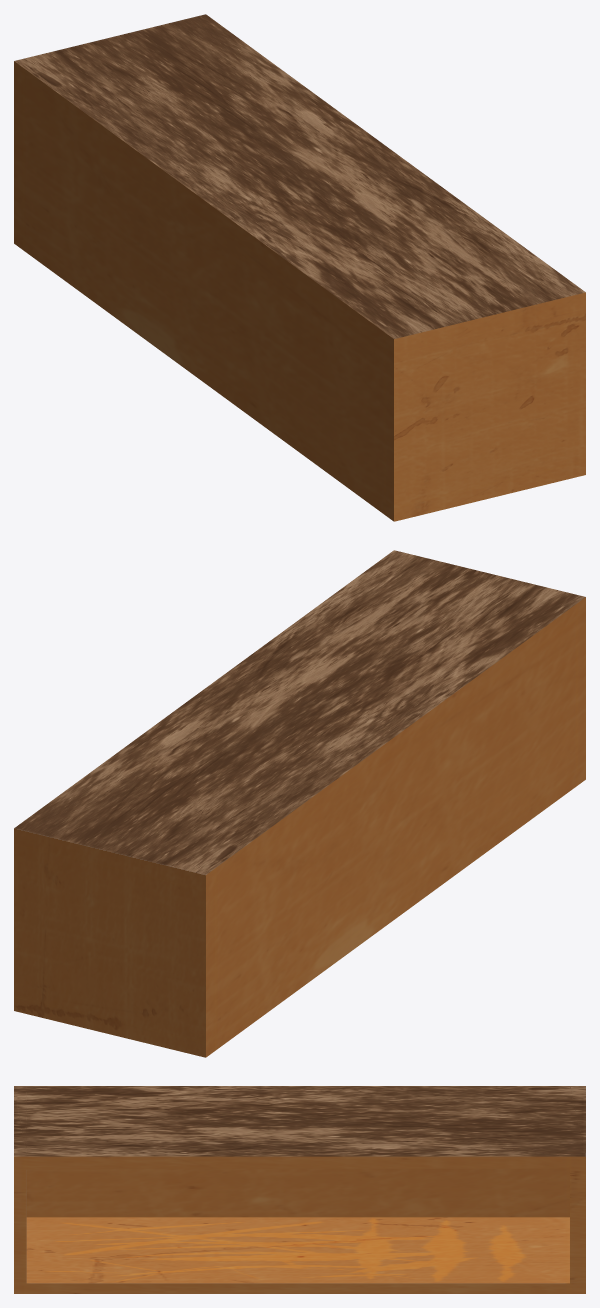
The model's file is Counter5.fbx.
3 renders of one model, top to bottom at view 1: azimuth 30°, elevation 25°; view 2: azimuth 150°, elevation 25°; view 3: azimuth 270°, elevation 25°, orthographic. The views are drawn at different scales.
Visible parts, largest first — view 1: Counter 5; view 2: Counter 5; view 3: Counter 5.
Boxes of the visible parts, left/top/right/bottom form: Counter 5: left=14, top=14, right=585, bottom=521; Counter 5: left=14, top=550, right=585, bottom=1057; Counter 5: left=14, top=1086, right=585, bottom=1293.
Bounding box in the file's own units: 110 × 100 × 377.
